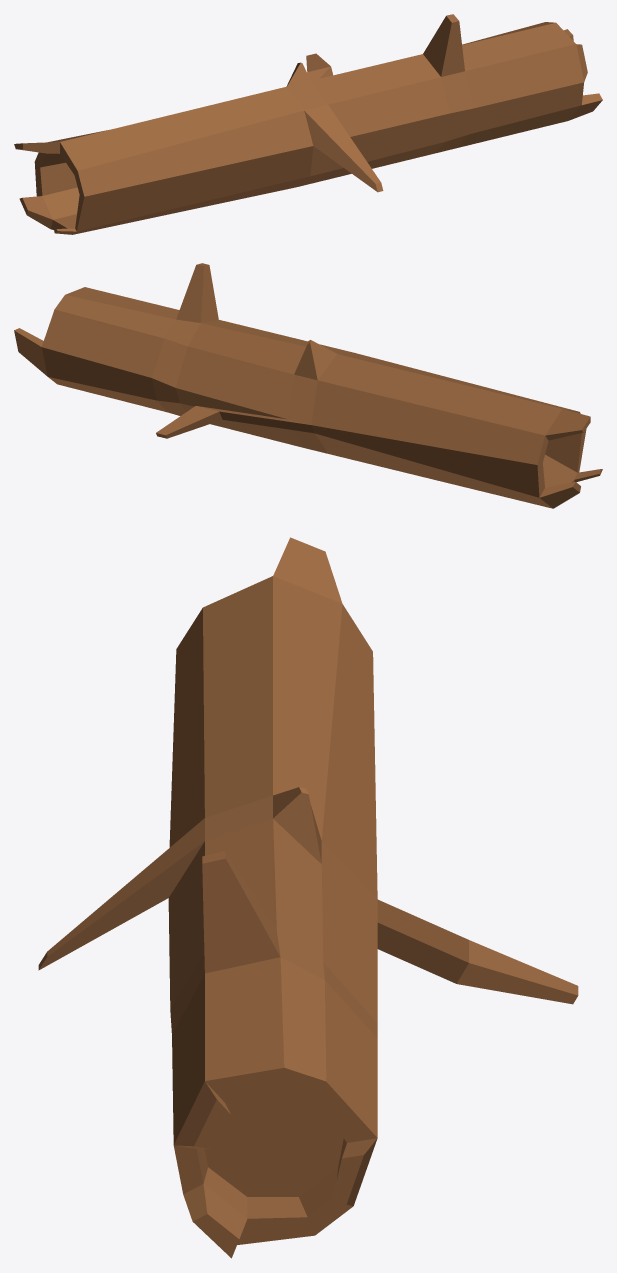
Rendered from Log1.fbx.
The picture shows the model from 3 angles, top to bottom: view 1: azimuth 30°, elevation 25°; view 2: azimuth 150°, elevation 25°; view 3: azimuth 270°, elevation 25°; orthographic projection. The views are drawn at different scales.
Parts seen in each view (by area): view 1: Cylinder.006; view 2: Cylinder.006; view 3: Cylinder.006.
Boxes of the visible parts, bbox=[...] form: Cylinder.006: bbox=[14, 14, 602, 234]; Cylinder.006: bbox=[14, 263, 602, 508]; Cylinder.006: bbox=[38, 537, 578, 1258].
Bounding box in the file's own units: 691 × 162 × 289.
